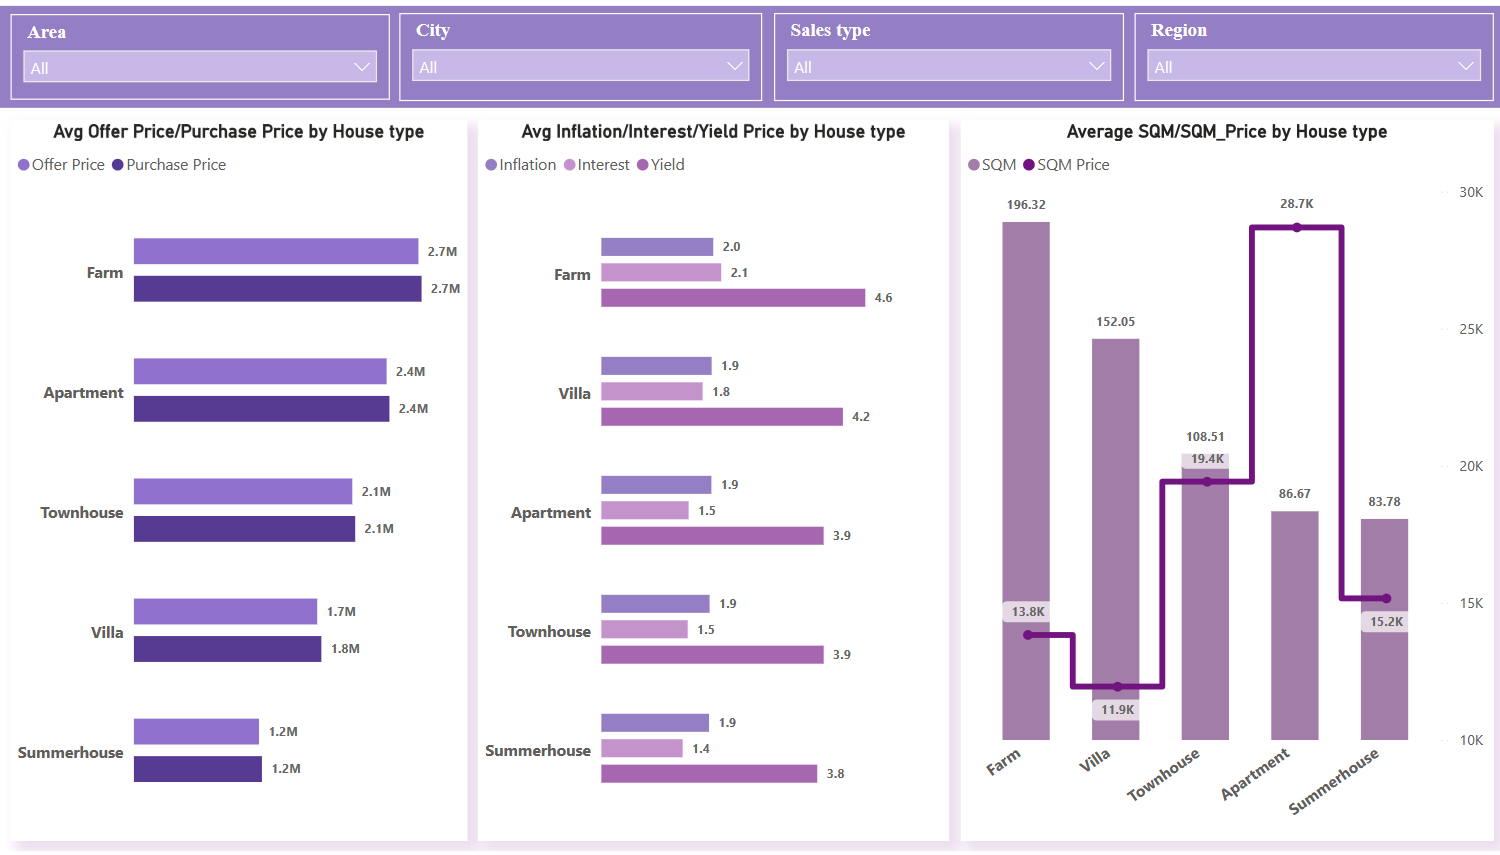

What the dashboard file says about the page in this screenshot:
{"tool":"powerbi","page":{"name":"House Type Analysis","canvas":[1280,720],"ordinal":2},"visuals":[{"type":"shape","box":[0,0,1280.3,86.8],"z":0},{"type":"clusteredBarChart","title":"Avg Offer Price/Purchase Price by House type","fields":{"Category":["Google Housing Data.house_type"],"Y":["Avg(Google Housing Data.Offer Price)","Avg(Google Housing Data.purchase_price)"]},"box":[8.6,96.6,388.9,613.9],"z":1000},{"type":"clusteredBarChart","title":"Avg Inflation/Interest/Yield Price by House type","fields":{"Category":["Google Housing Data.house_type"],"Y":["Avg(Google Housing Data.dk_ann_infl_rate%)","Avg(Google Housing Data.nom_interest_rate%)","Avg(Google Housing Data.yield_on_mortgage_credit_bonds%)"]},"box":[407.2,96.6,401.1,613.9],"z":2000},{"type":"lineStackedColumnComboChart","title":"Average SQM/SQM_Price by House type","fields":{"Category":["Google Housing Data.house_type"],"Y":["Avg(Google Housing Data.sqm)"],"Y2":["Avg(Google Housing Data.sqm_price)"]},"box":[818.1,96.6,453.7,613.9],"z":3000},{"type":"slicer","fields":{"Values":["Google Housing Data.area"]},"box":[8.6,7.3,322.8,73.4],"z":4000},{"type":"slicer","fields":{"Values":["Google Housing Data.city"]},"box":[340.4,6.1,309.4,74.6],"z":5000},{"type":"slicer","fields":{"Values":["Google Housing Data.sales_type"]},"box":[658.7,6.1,298.4,74.6],"z":6000},{"type":"slicer","fields":{"Values":["Google Housing Data.region"]},"box":[966,6.1,305.7,74.6],"z":7000}]}

Visuals, with their boxes in screenshot pixels (x1, y1, x2, y2), scaled from the page's 1280x720 canvas onto the 1500x855 screenshot:
shape: (0,0,1499,103)
"Avg Offer Price/Purchase Price by House type" clusteredBarChart: (10,115,466,844)
"Avg Inflation/Interest/Yield Price by House type" clusteredBarChart: (477,115,947,844)
"Average SQM/SQM_Price by House type" lineStackedColumnComboChart: (959,115,1490,844)
slicer - Google Housing Data.area: (10,9,388,96)
slicer - Google Housing Data.city: (399,7,761,96)
slicer - Google Housing Data.sales_type: (772,7,1122,96)
slicer - Google Housing Data.region: (1132,7,1490,96)
